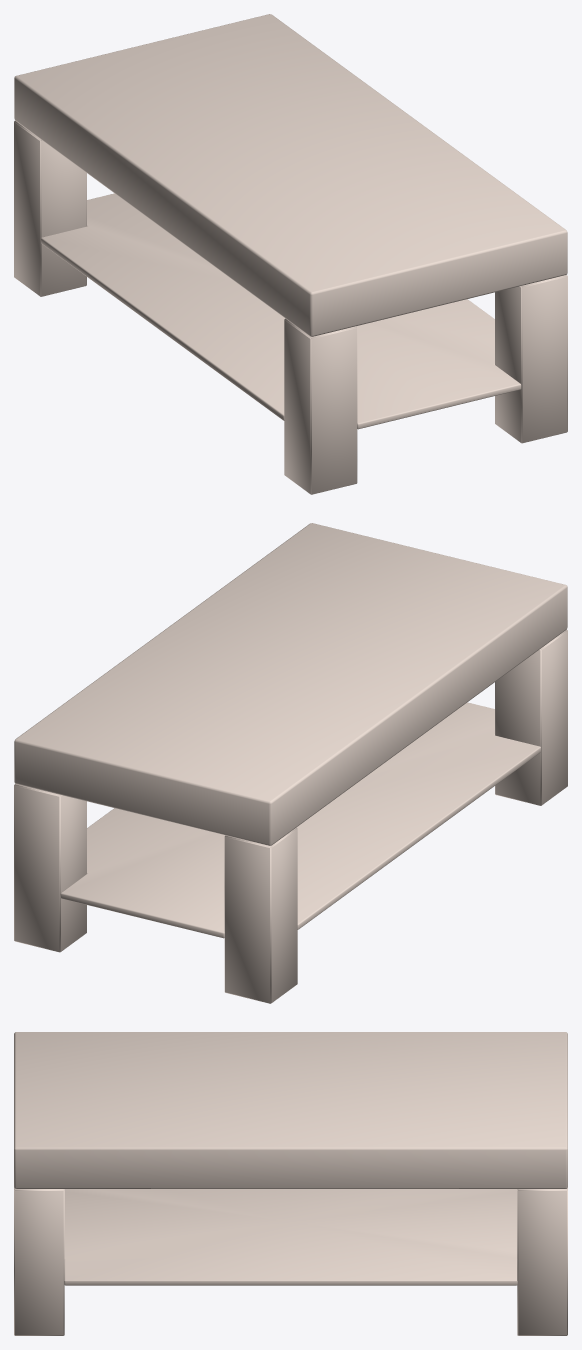
File: CoffeeTable.fbx
3 renders of one model, top to bottom at view 1: azimuth 30°, elevation 25°; view 2: azimuth 150°, elevation 25°; view 3: azimuth 270°, elevation 25°, orthographic. The views are drawn at different scales.
Parts seen in each view (by area): view 1: CoffeeTable; view 2: CoffeeTable; view 3: CoffeeTable.
Boxes of the visible parts, x1=… form: CoffeeTable: x1=14, y1=14, x2=567, y2=494; CoffeeTable: x1=14, y1=523, x2=567, y2=1003; CoffeeTable: x1=14, y1=1032, x2=567, y2=1335.
Size of the model in its own units: 60 by 45 by 120.
